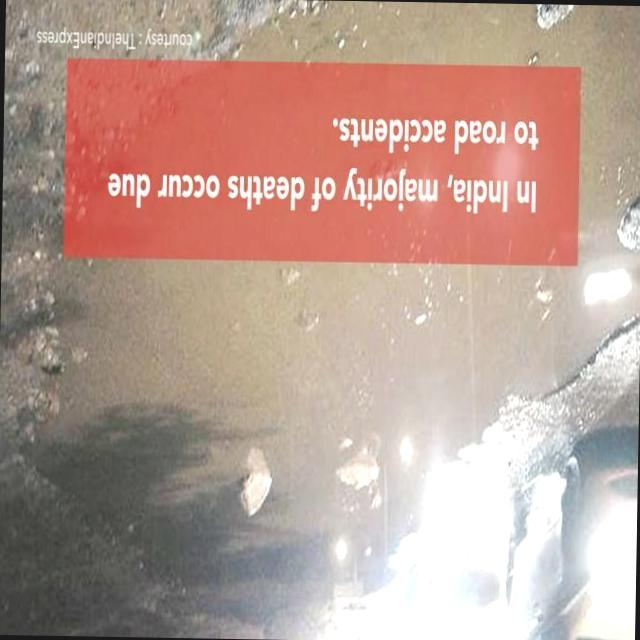Pathole: (40, 236, 632, 605)
